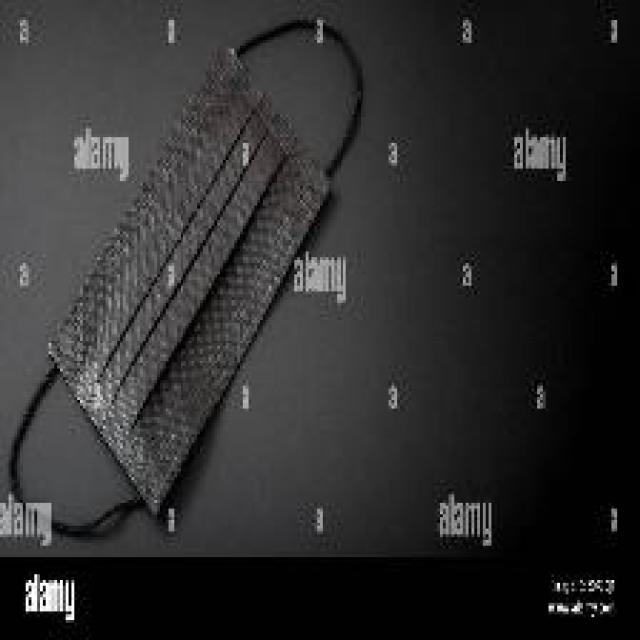Mask: (45, 0, 369, 556)
